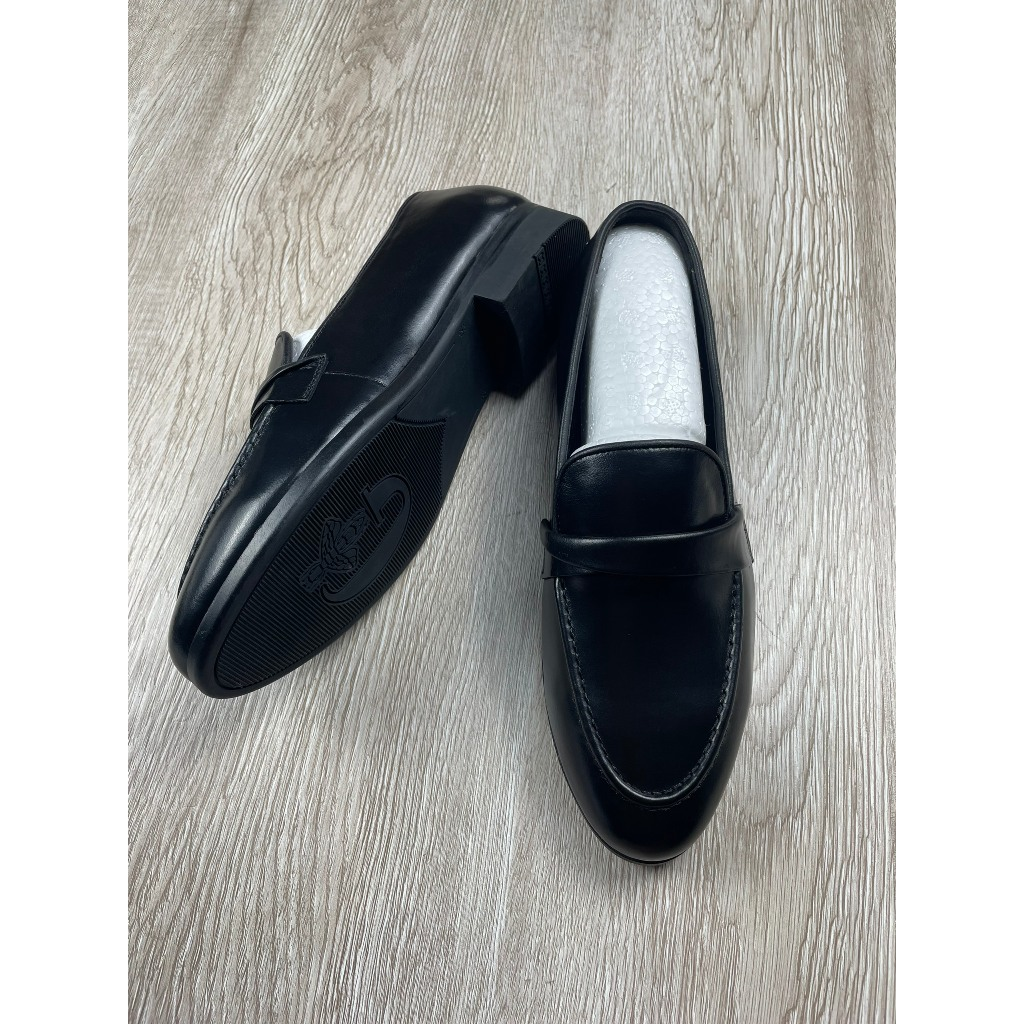loafers: (164, 181, 592, 697), (539, 200, 758, 869)
